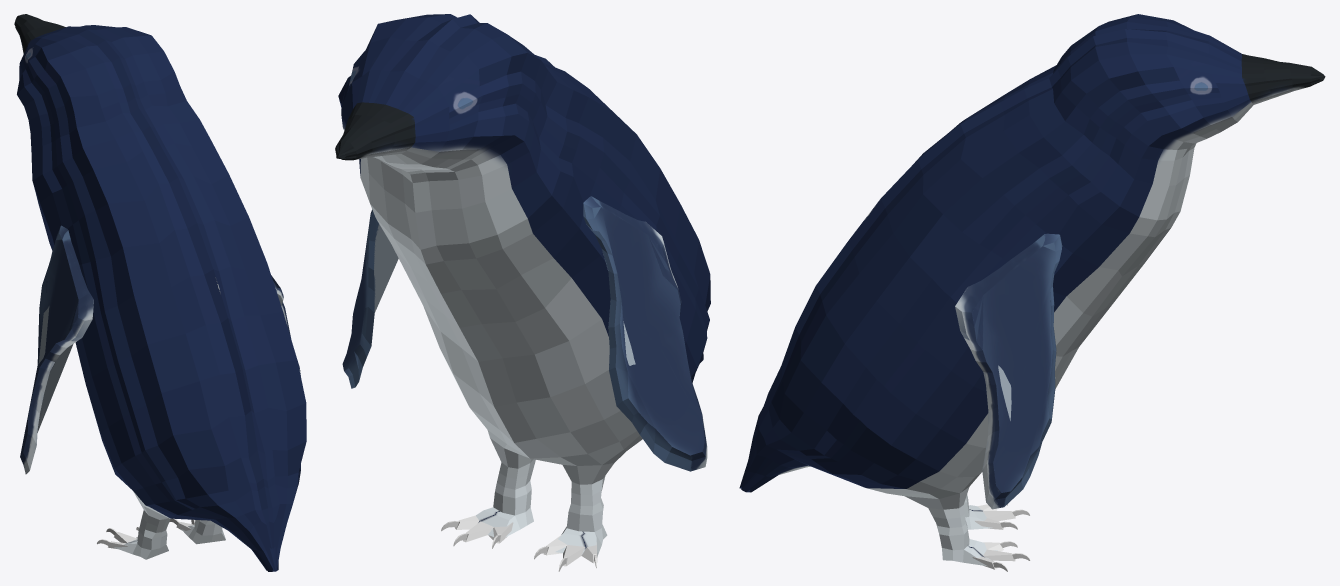
File: PinguimAzul.fbx
3 renders of one model, left to right at view 1: azimuth 30°, elevation 25°; view 2: azimuth 150°, elevation 25°; view 3: azimuth 270°, elevation 25°, orthographic. The views are drawn at different scales.
Visible parts, largest first — view 1: Cylinder, Cylinder.002; view 2: Cylinder, Cylinder.002; view 3: Cylinder, Cylinder.002.
Boxes of the visible parts, x1=… form: Cylinder: x1=14, y1=14, x2=306, y2=571; Cylinder.002: x1=20, y1=225, x2=300, y2=474; Cylinder: x1=335, y1=14, x2=710, y2=571; Cylinder.002: x1=342, y1=196, x2=707, y2=471; Cylinder: x1=739, y1=14, x2=1325, y2=571; Cylinder.002: x1=955, y1=233, x2=1062, y2=509.
Size of the model in its own units: 68.02 by 105 by 109.
